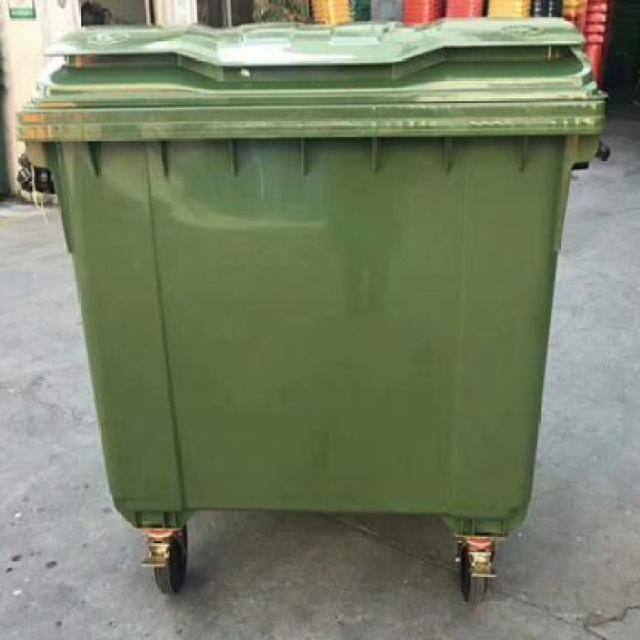garbage container: (2, 8, 612, 622)
